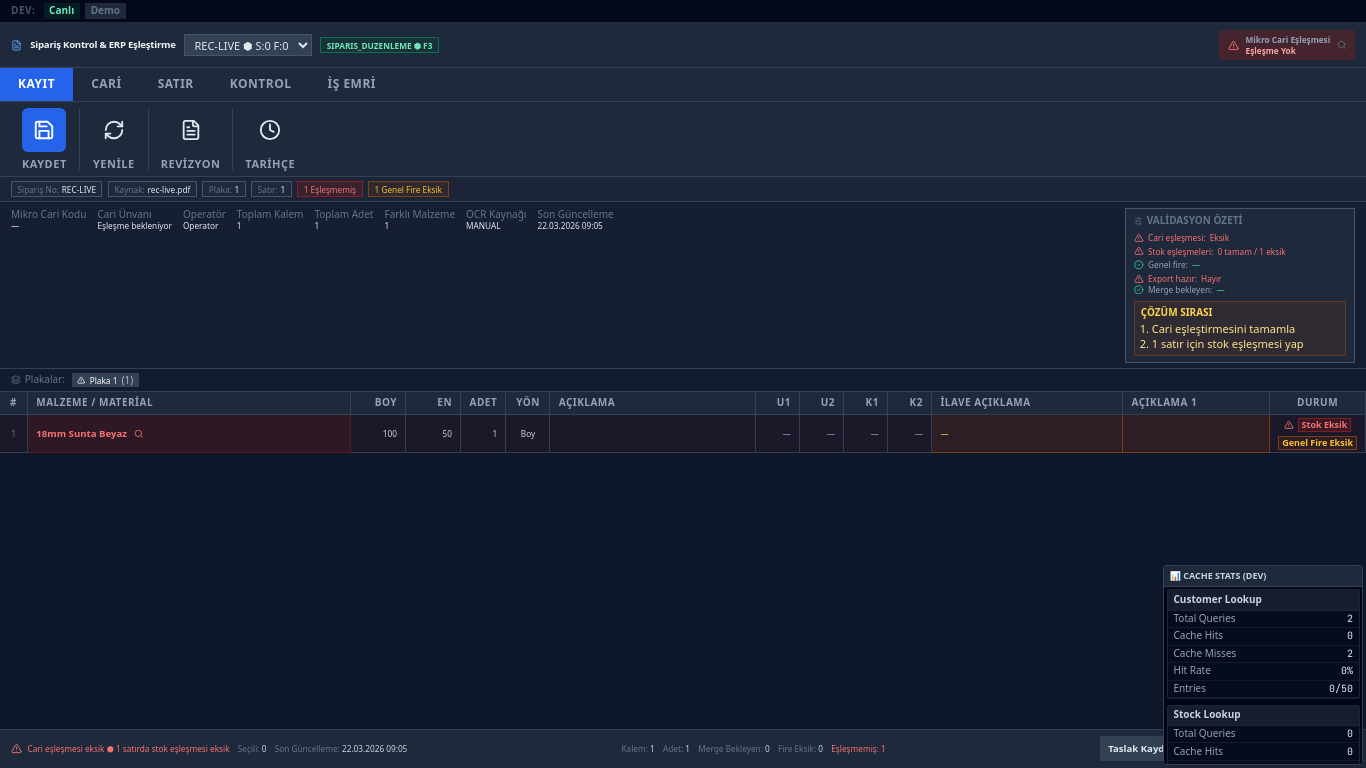
Scenario: SiparisKontrolPage › cari drawer yeniden dene ile aynı sorguyu tekrar tetikler
Click the tab "CARİ" at (106, 84), box x1=73 y1=68 x2=140 y2=101
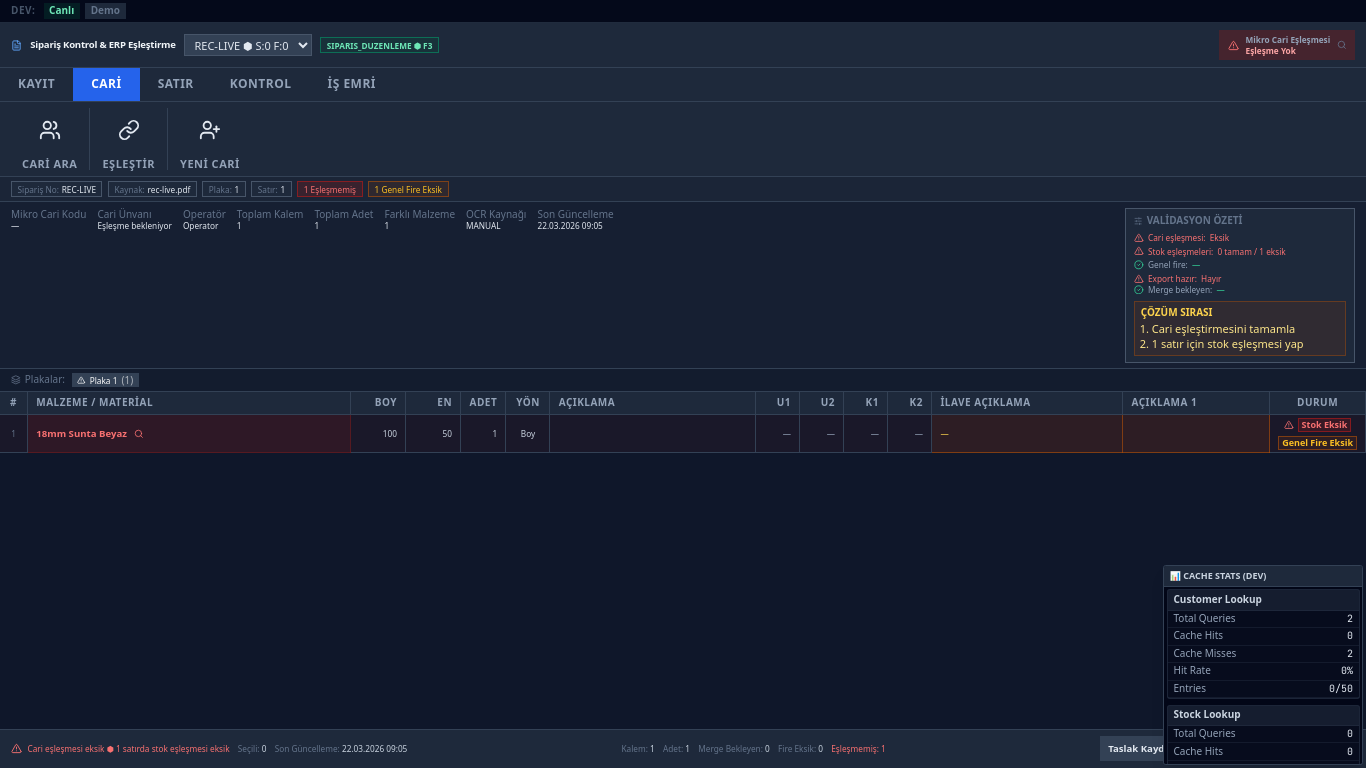
Click the button named "Cari Ara" at (50, 130), box x1=28 y1=108 x2=72 y2=152
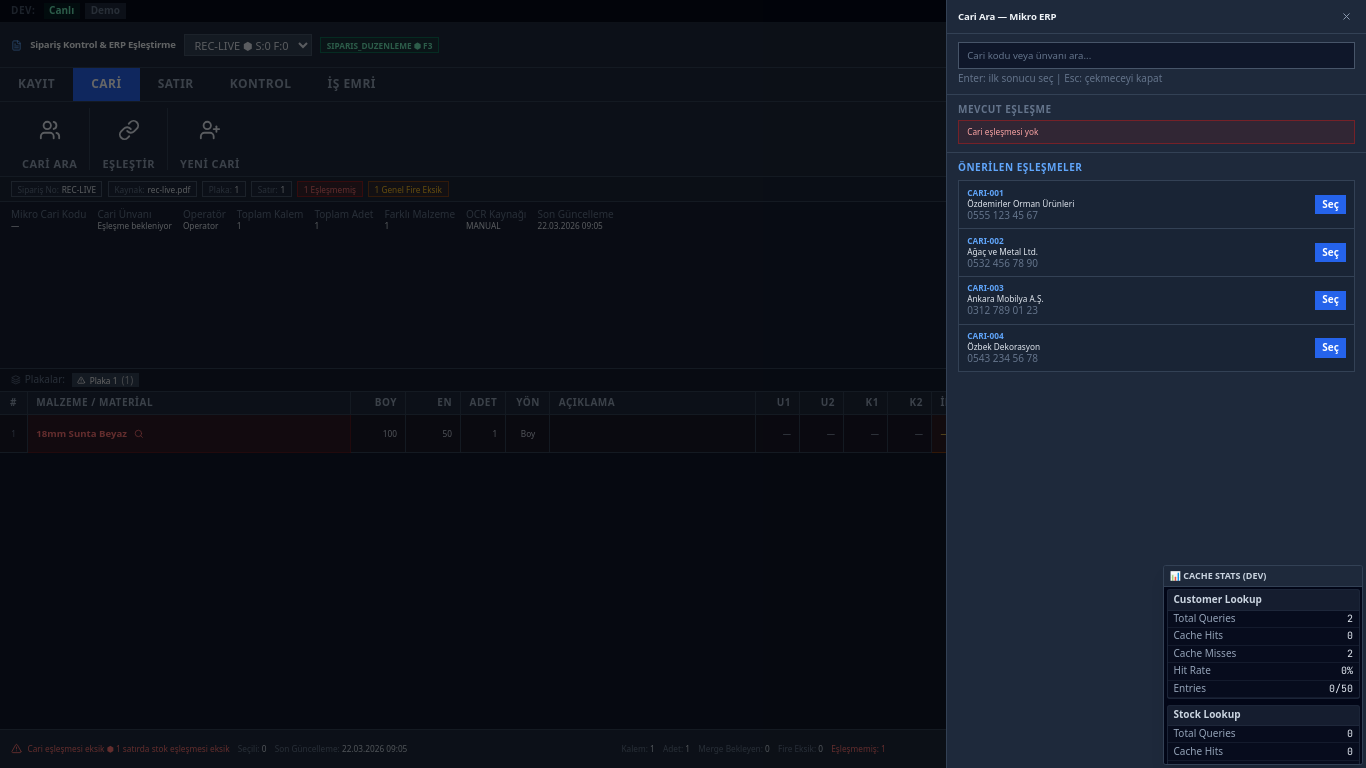
Type "CARI-777" into the search field named "Cari ara" at (1156, 56), box x1=958 y1=42 x2=1355 y2=69
Wait 300 ms
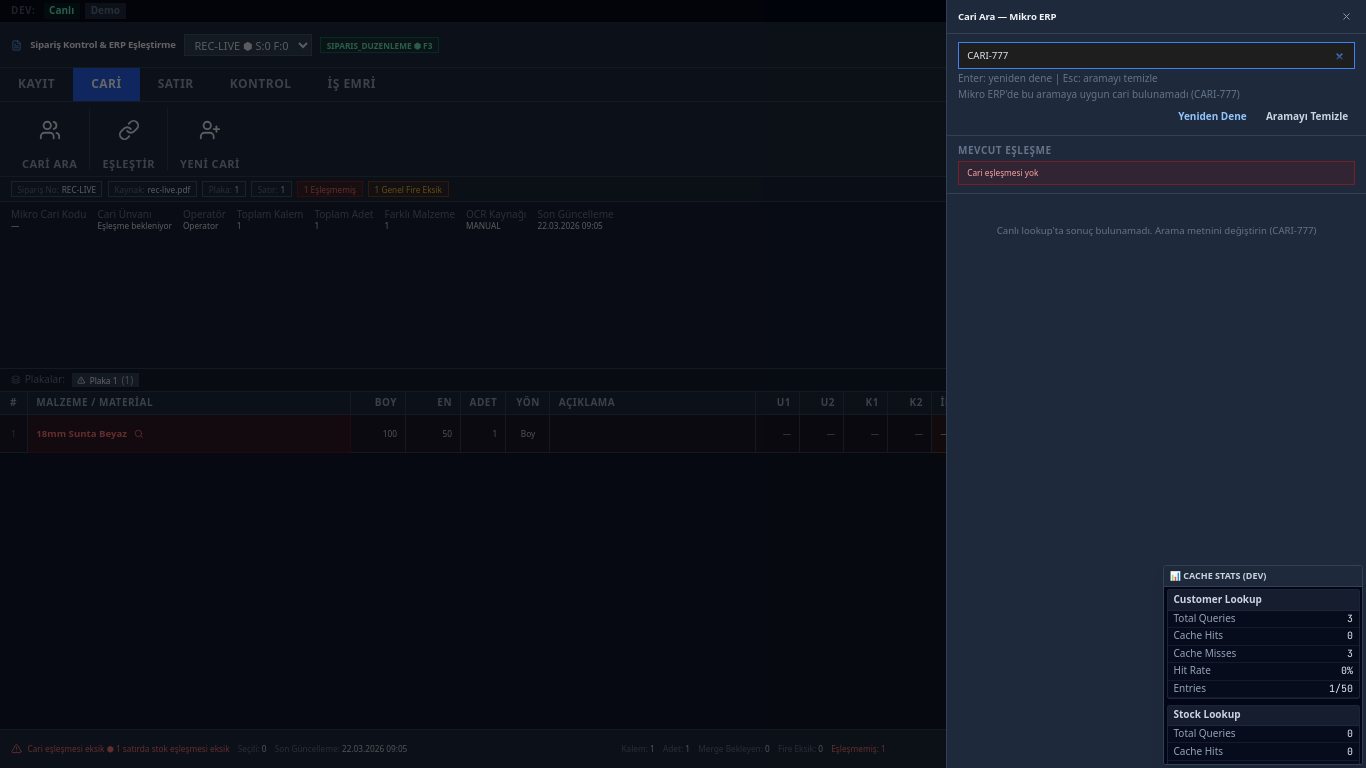
Click the button with aria-label "Cari lookup yeniden dene" at (1212, 117), box x1=1171 y1=108 x2=1254 y2=127
Wait 300 ms
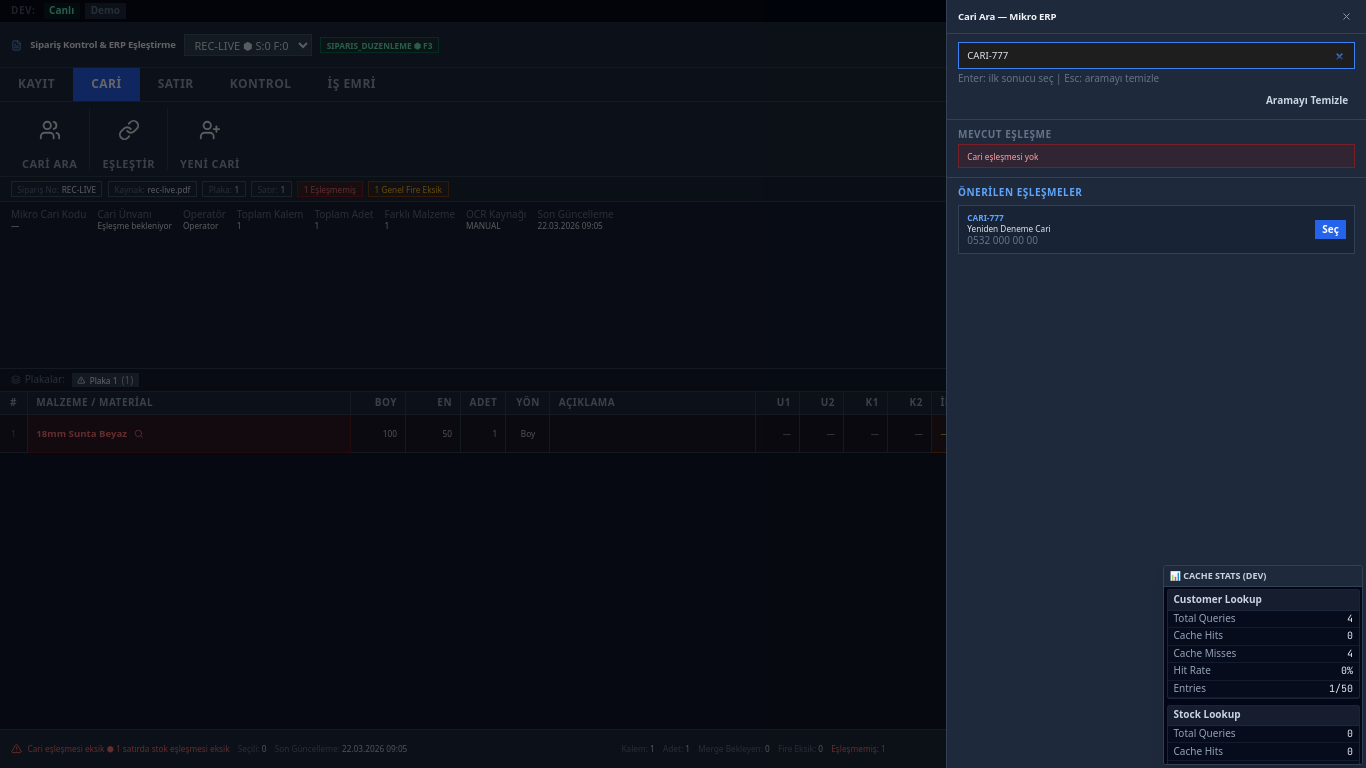
Check: the text "Yeniden Deneme Cari" is shown, box x1=967 y1=222 x2=1051 y2=234
